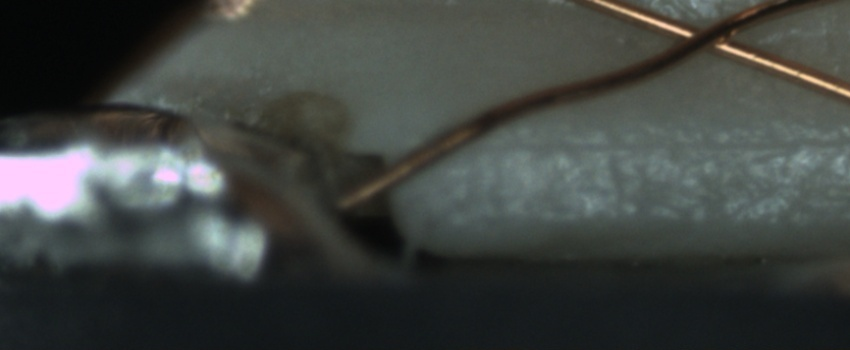CL: (655, 7, 757, 64)
DL: (500, 110, 850, 172)
